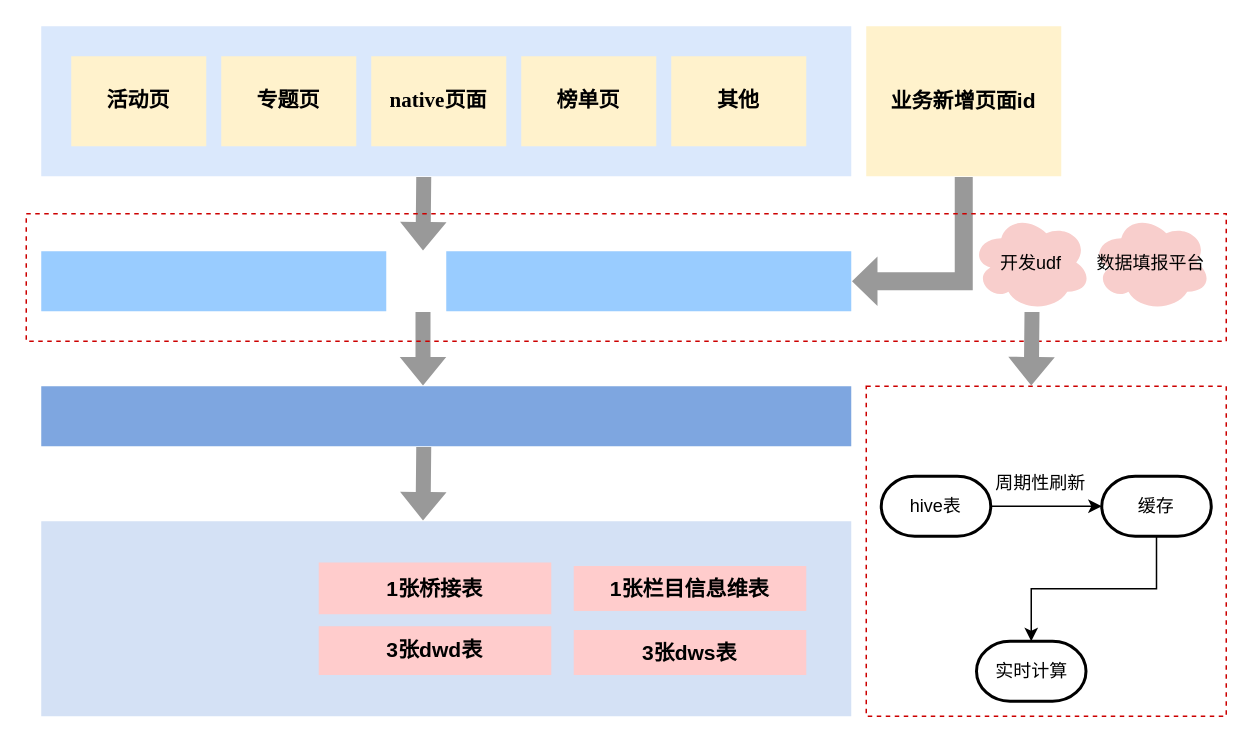
The diagram is 1253 pixels wide and 743 high, and some of its shapes have lost their labels. The box of each missing label's shape, as (x1, y1, x2, y2) in pixels:
抽象栏目id: (40, 386, 850, 446)
规则统一抽取: (40, 250, 386, 310)
配置表(hive表): (446, 250, 850, 310)
